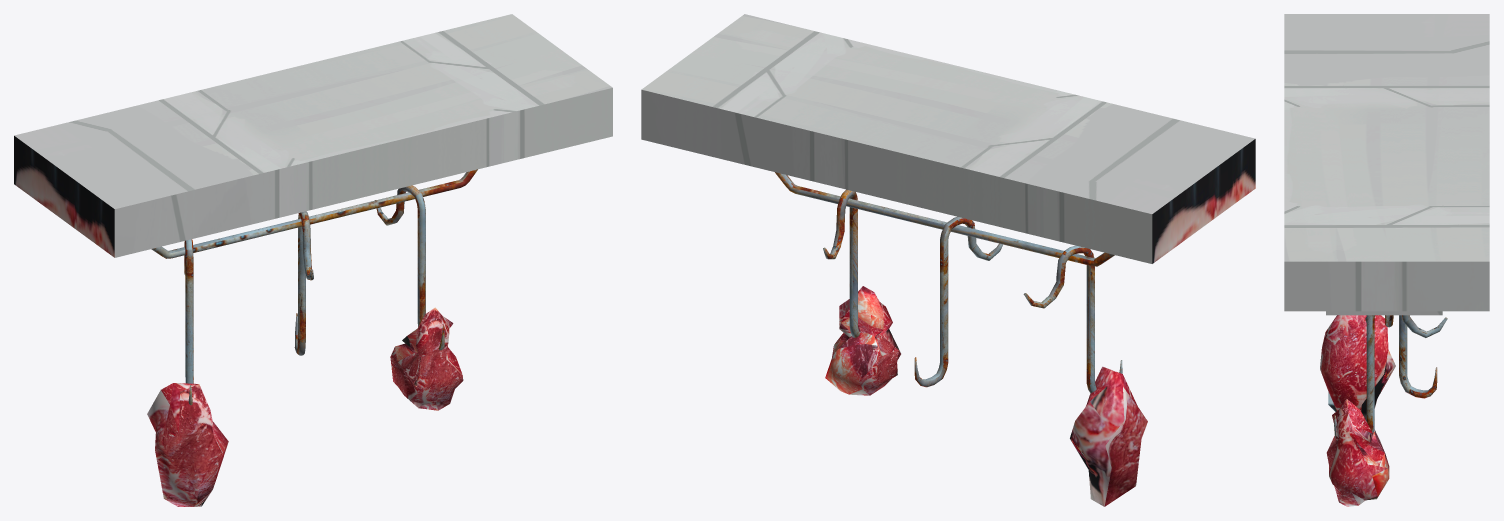
File: SpaceshipObjekts2.fbx
3 views of the same model, side by side, from view 1: azimuth 30°, elevation 25°; view 2: azimuth 150°, elevation 25°; view 3: azimuth 270°, elevation 25° (orthographic). The views are drawn at different scales.
Visible parts, largest first — view 1: Cylinder; view 2: Cylinder; view 3: Cylinder.
Part boxes in pixels (box(x1,y1,x2,y2)): Cylinder: box(14, 14, 612, 506); Cylinder: box(641, 14, 1255, 506); Cylinder: box(1284, 14, 1489, 506).
Bounding box in the file's own units: 4.37 × 1.53 × 2.97.
